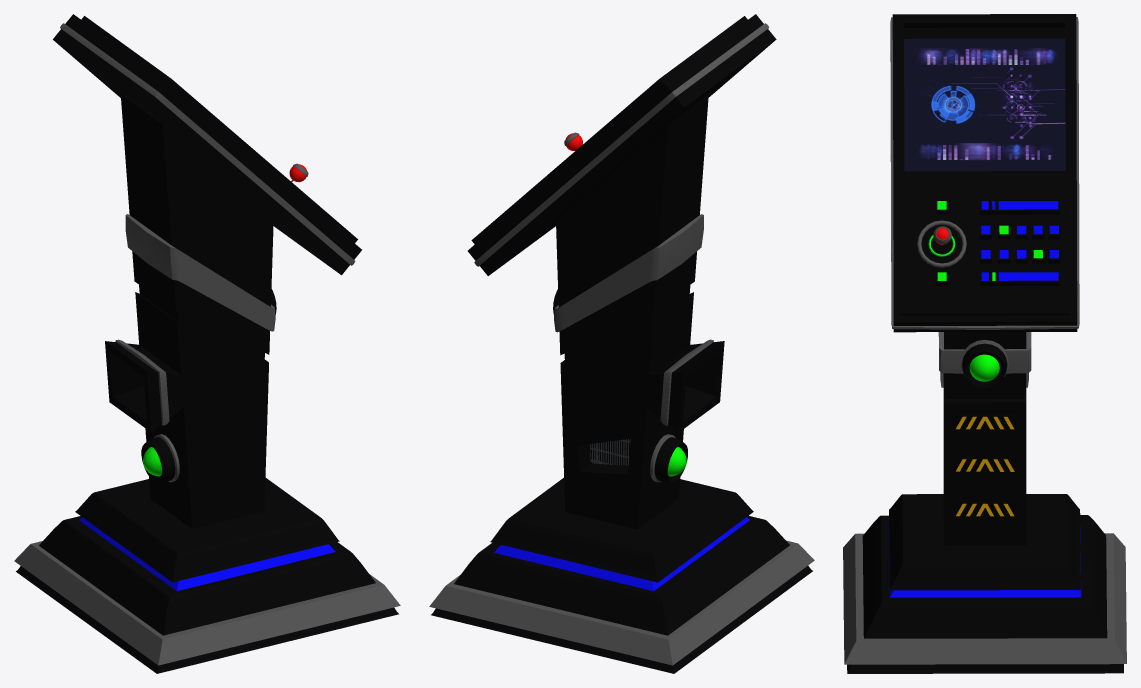
File: objPanel.obj
3 views of the same model, side by side, from view 1: azimuth 30°, elevation 25°; view 2: azimuth 150°, elevation 25°; view 3: azimuth 270°, elevation 25° (orthographic).
Parts seen in each view (by area): view 1: structure, light1; view 2: structure, light1; view 3: structure, buttons, fence, light, buttons1.
Part boxes in pixels (bbox=[...]): structure: bbox=[14, 14, 400, 673]; light1: bbox=[141, 434, 179, 482]; structure: bbox=[429, 14, 814, 673]; light1: bbox=[650, 434, 687, 482]; structure: bbox=[843, 14, 1126, 673]; buttons: bbox=[935, 199, 1060, 286]; fence: bbox=[955, 415, 1015, 516]; light: bbox=[961, 340, 1009, 387]; buttons1: bbox=[917, 220, 966, 267].
Size of the model in its own units: 1.64 by 3.64 by 1.68.
